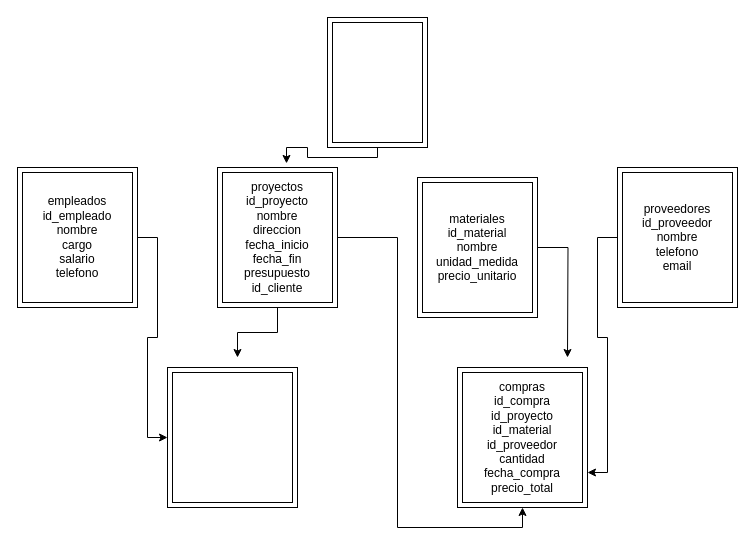
Some shapes in this 755 by 553 pixel diagram are drawn without their labels. The centre of each missing label's shape, as x and y in pixels:
asignaciones id_asignacion id_empleado id_proyecto fecha_asignacion rol: the point at 232,437
clientes id_cliente nombre telefono email direccion: the point at 377,82
